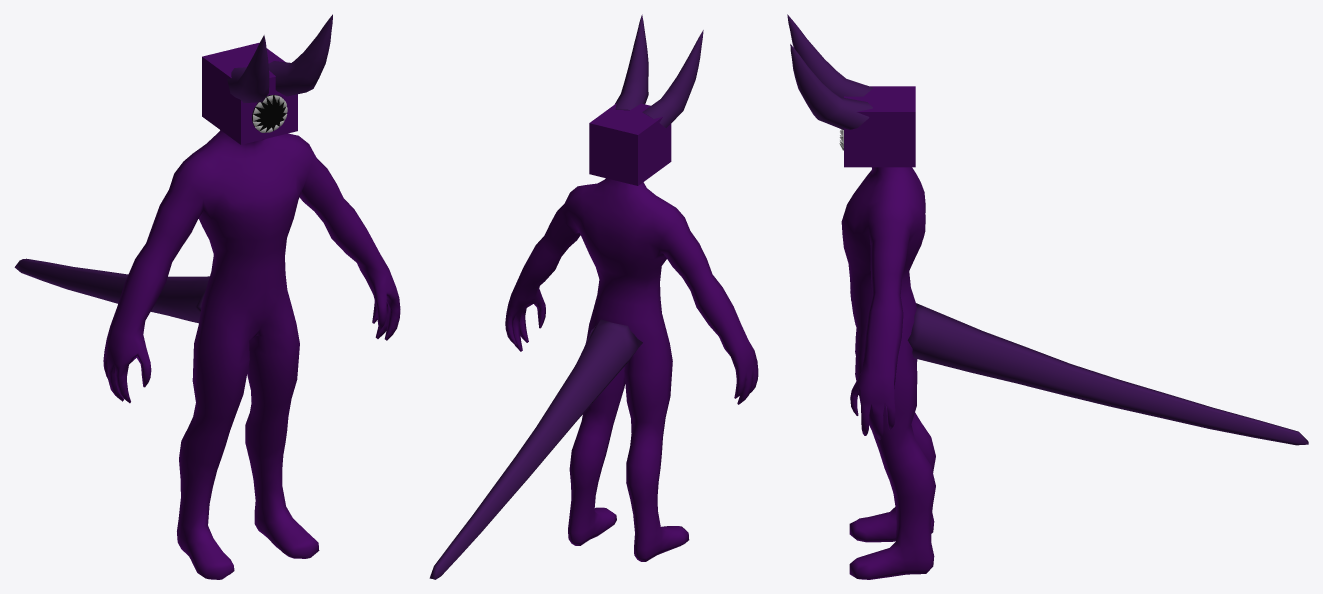
File: Demon Humanoid.fbx
The picture shows the model from 3 angles, left to right: view 1: azimuth 30°, elevation 25°; view 2: azimuth 150°, elevation 25°; view 3: azimuth 270°, elevation 25°; orthographic projection. The views are drawn at different scales.
Parts seen in each view (by area): view 1: CharacterFullAlienHorrorStyle:Alien_HorrorStyle, polySurface1, Alligator:alligator, polySurface2, polySurface3, pDisc1; view 2: CharacterFullAlienHorrorStyle:Alien_HorrorStyle, Alligator:alligator, polySurface1, polySurface3, polySurface2; view 3: CharacterFullAlienHorrorStyle:Alien_HorrorStyle, Alligator:alligator, polySurface1, polySurface2, polySurface3.
Part boxes in pixels (x1,y1,x2,y2): CharacterFullAlienHorrorStyle:Alien_HorrorStyle: (103, 130, 400, 579); polySurface1: (202, 43, 297, 144); Alligator:alligator: (14, 258, 209, 323); polySurface2: (268, 14, 332, 96); polySurface3: (227, 35, 269, 102); pDisc1: (252, 95, 286, 132); CharacterFullAlienHorrorStyle:Alien_HorrorStyle: (505, 178, 758, 561); Alligator:alligator: (429, 319, 642, 579); polySurface1: (589, 103, 671, 185); polySurface3: (642, 30, 703, 127); polySurface2: (615, 14, 648, 110); CharacterFullAlienHorrorStyle:Alien_HorrorStyle: (841, 167, 935, 579); Alligator:alligator: (907, 303, 1308, 445); polySurface1: (844, 86, 915, 167); polySurface2: (790, 44, 872, 129); polySurface3: (787, 14, 872, 97).
Size of the model in its own units: 124 by 242 by 216.
